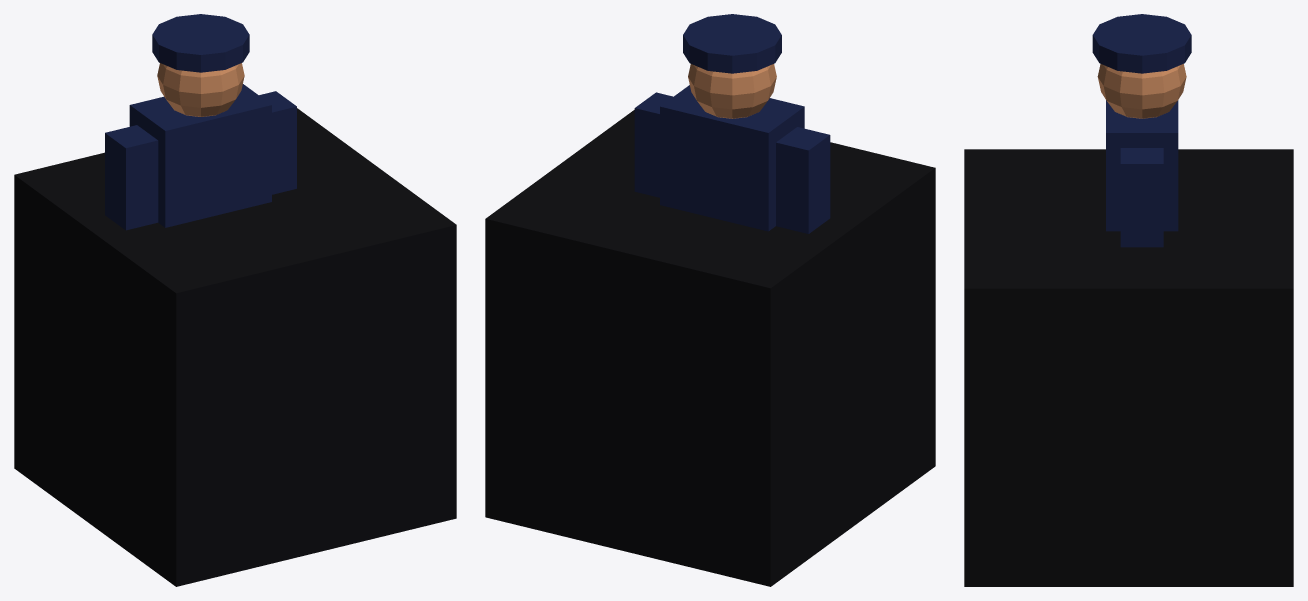
The model's file is SM_Characters_Pursuer_001.obj.
3 renders of one model, left to right at view 1: azimuth 30°, elevation 25°; view 2: azimuth 150°, elevation 25°; view 3: azimuth 270°, elevation 25°, orthographic.
Visible parts, largest first — view 1: RightBoot, Torso, LeftArm, Cap, Head, RightArm; view 2: RightBoot, Torso, LeftArm, Cap, Head, RightArm; view 3: RightBoot, Torso, Cap, RightArm, Head.
Part boxes in pixels (left/top/right/bottom): RightBoot: left=14, top=108, right=456, bottom=586; Torso: left=129, top=84, right=271, bottom=227; LeftArm: left=105, top=125, right=158, bottom=230; Cap: left=152, top=14, right=249, bottom=72; Head: left=157, top=63, right=244, bottom=116; RightArm: left=259, top=91, right=296, bottom=194; RightBoot: left=485, top=110, right=935, bottom=586; Torso: left=660, top=85, right=804, bottom=231; LeftArm: left=776, top=127, right=830, bottom=233; Cap: left=683, top=14, right=781, bottom=73; Head: left=688, top=64, right=776, bottom=118; RightArm: left=634, top=92, right=672, bottom=197; RightBoot: left=964, top=149, right=1293, bottom=586; Torso: left=1106, top=100, right=1178, bottom=231; Cap: left=1092, top=14, right=1191, bottom=73; RightArm: left=1120, top=148, right=1163, bottom=247; Head: left=1097, top=64, right=1186, bottom=118.
Size of the model in its own units: 2 by 3.14 by 2.
